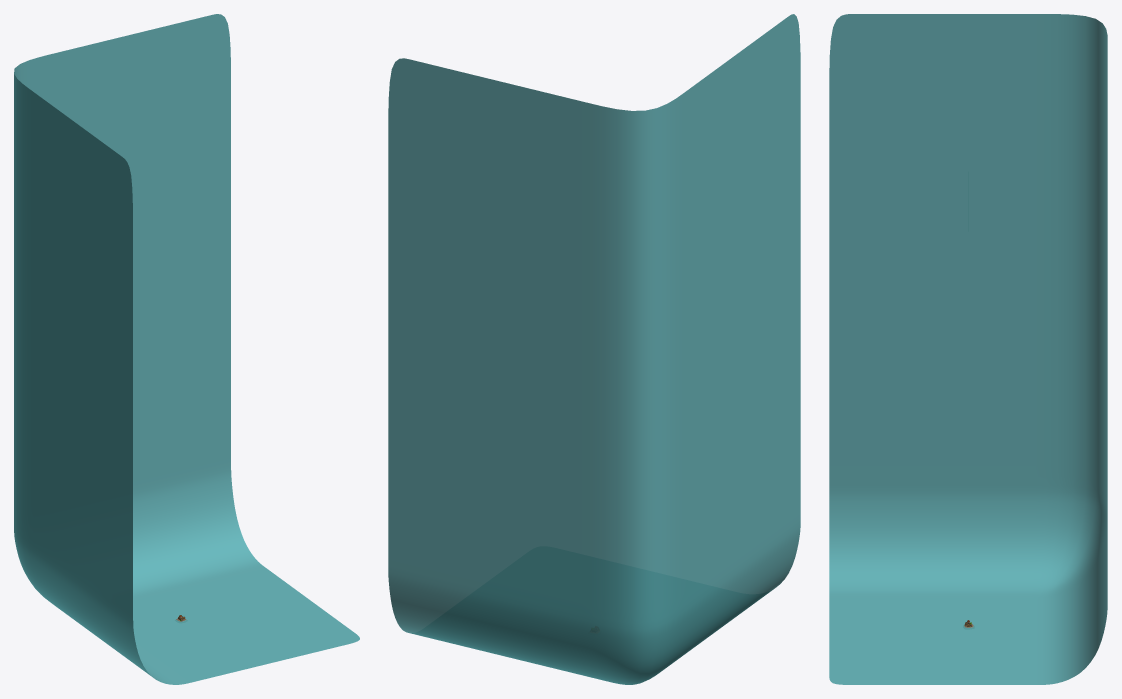
File: HutOnIsland.fbx
The picture shows the model from 3 angles, left to right: view 1: azimuth 30°, elevation 25°; view 2: azimuth 150°, elevation 25°; view 3: azimuth 270°, elevation 25°; orthographic projection. The views are drawn at different scales.
Visible parts, largest first — view 1: Plane.008; view 2: Plane.008; view 3: Plane.008.
Boxes of the visible parts, x1,y1,x2,y2 form: Plane.008: (14, 14, 359, 684); Plane.008: (388, 14, 800, 684); Plane.008: (829, 14, 1107, 684).
Bounding box in the file's own units: 26786 × 58943 × 26786.
